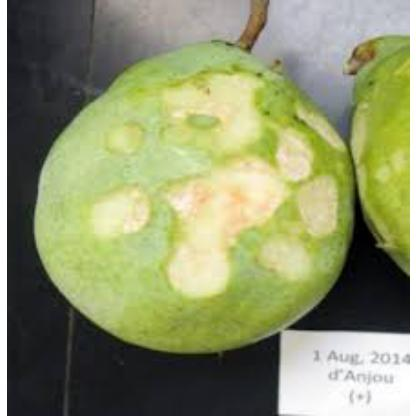apple: (26, 44, 350, 358)
